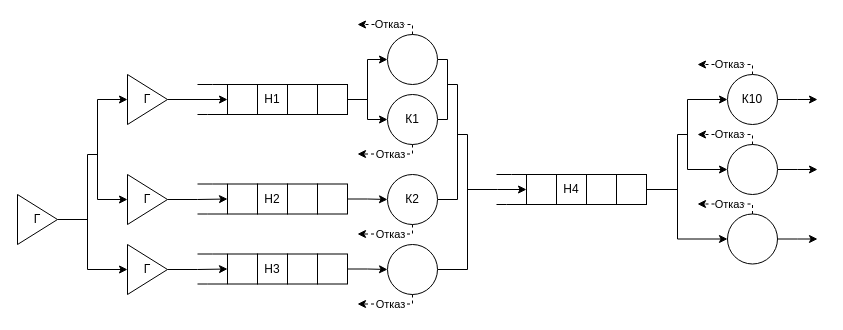
This 843x330 diagram has some shape labels left out. Each missing label, with the box of its shape:
К0: (386, 34, 438, 84)
К11: (726, 144, 778, 194)
К12: (726, 213, 778, 264)
К3: (386, 244, 438, 294)
